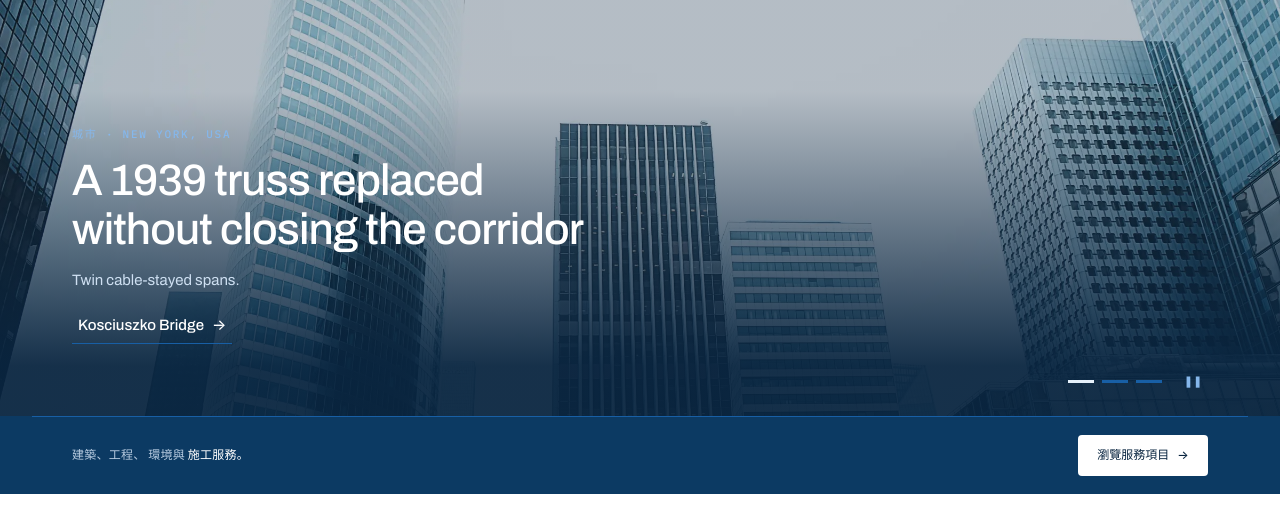
Test: HeroCarousel › the image caption › shows the caption in the active language
The width and height of the screenshot is (1280, 511).
Click the button with class "slide__link" at (152, 328), box [72,312,232,344]
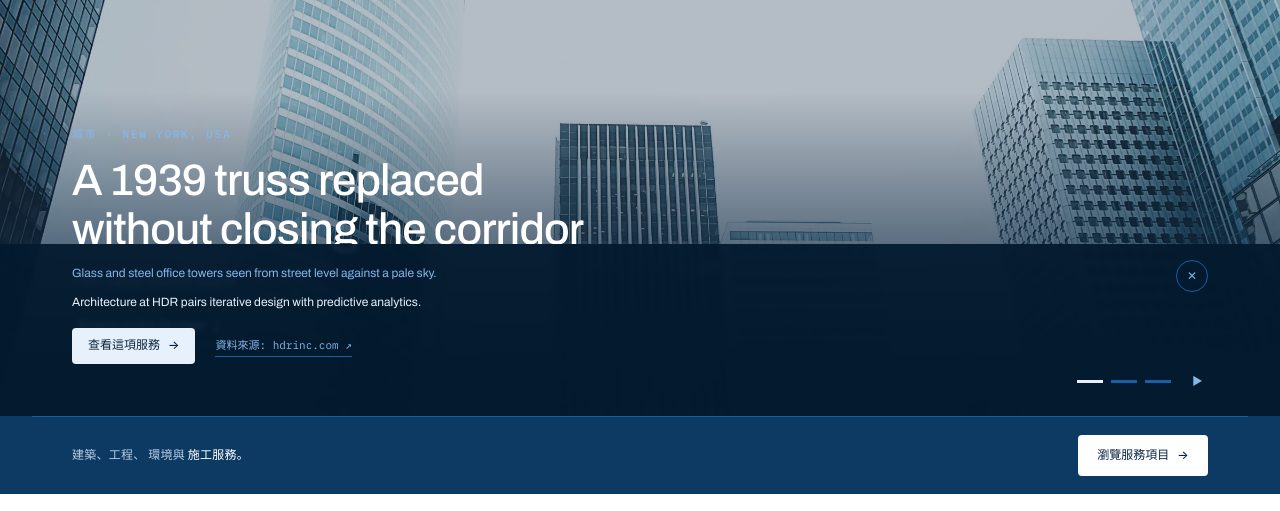
expect the button with class "caption__open" shows "查看這項服務": met, box [72,328,196,364]
expect the element with class "caption" shows "Architecture at HDR pairs iterative design with predictive analytics.": met, box [72,295,421,309]
